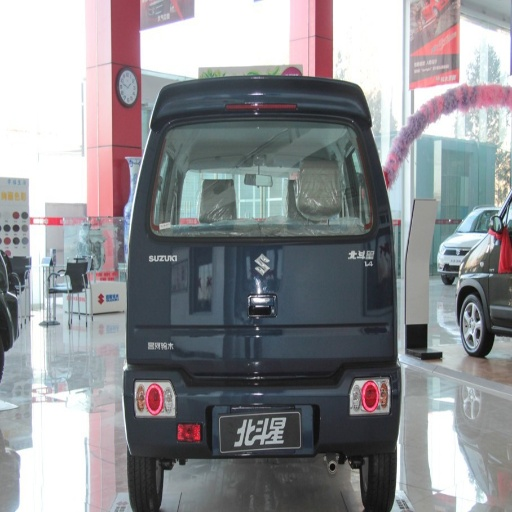back_bumper: (125, 331, 398, 455)
trunk: (130, 217, 386, 386)
